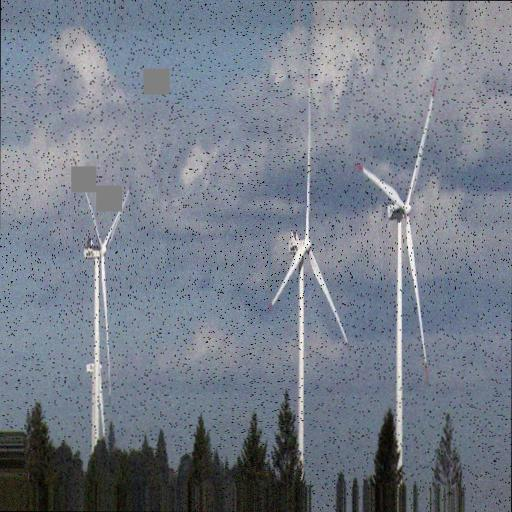wind turbine: (354, 77, 436, 476), (274, 72, 350, 500), (82, 185, 131, 467)
